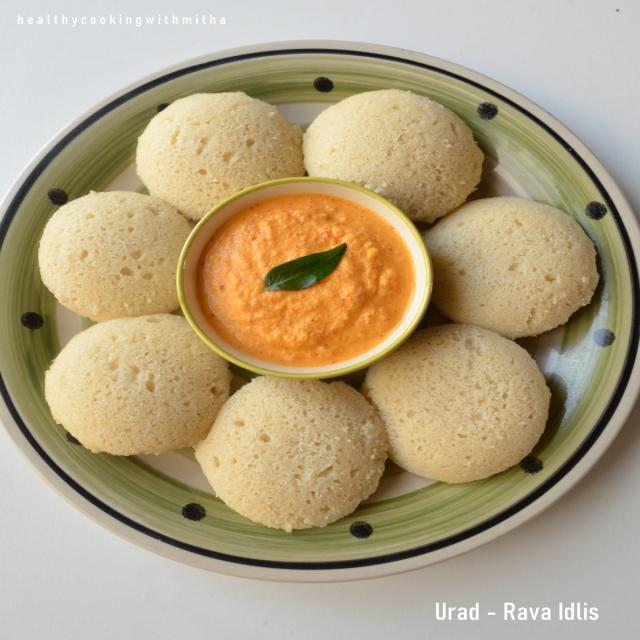rave idli: (191, 368, 393, 542), (360, 320, 559, 487), (299, 77, 487, 223), (432, 192, 610, 346), (42, 316, 229, 462), (33, 184, 194, 334), (126, 84, 300, 217)
